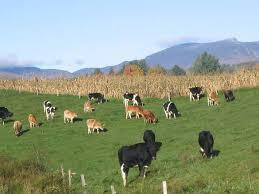cow: (117, 141, 162, 189), (198, 131, 215, 158), (162, 101, 180, 119), (43, 99, 57, 120), (86, 120, 106, 134), (123, 93, 141, 106), (143, 109, 156, 123), (189, 87, 201, 102), (12, 120, 23, 136), (126, 107, 142, 118), (63, 111, 77, 123), (27, 113, 38, 127), (89, 93, 104, 103)
